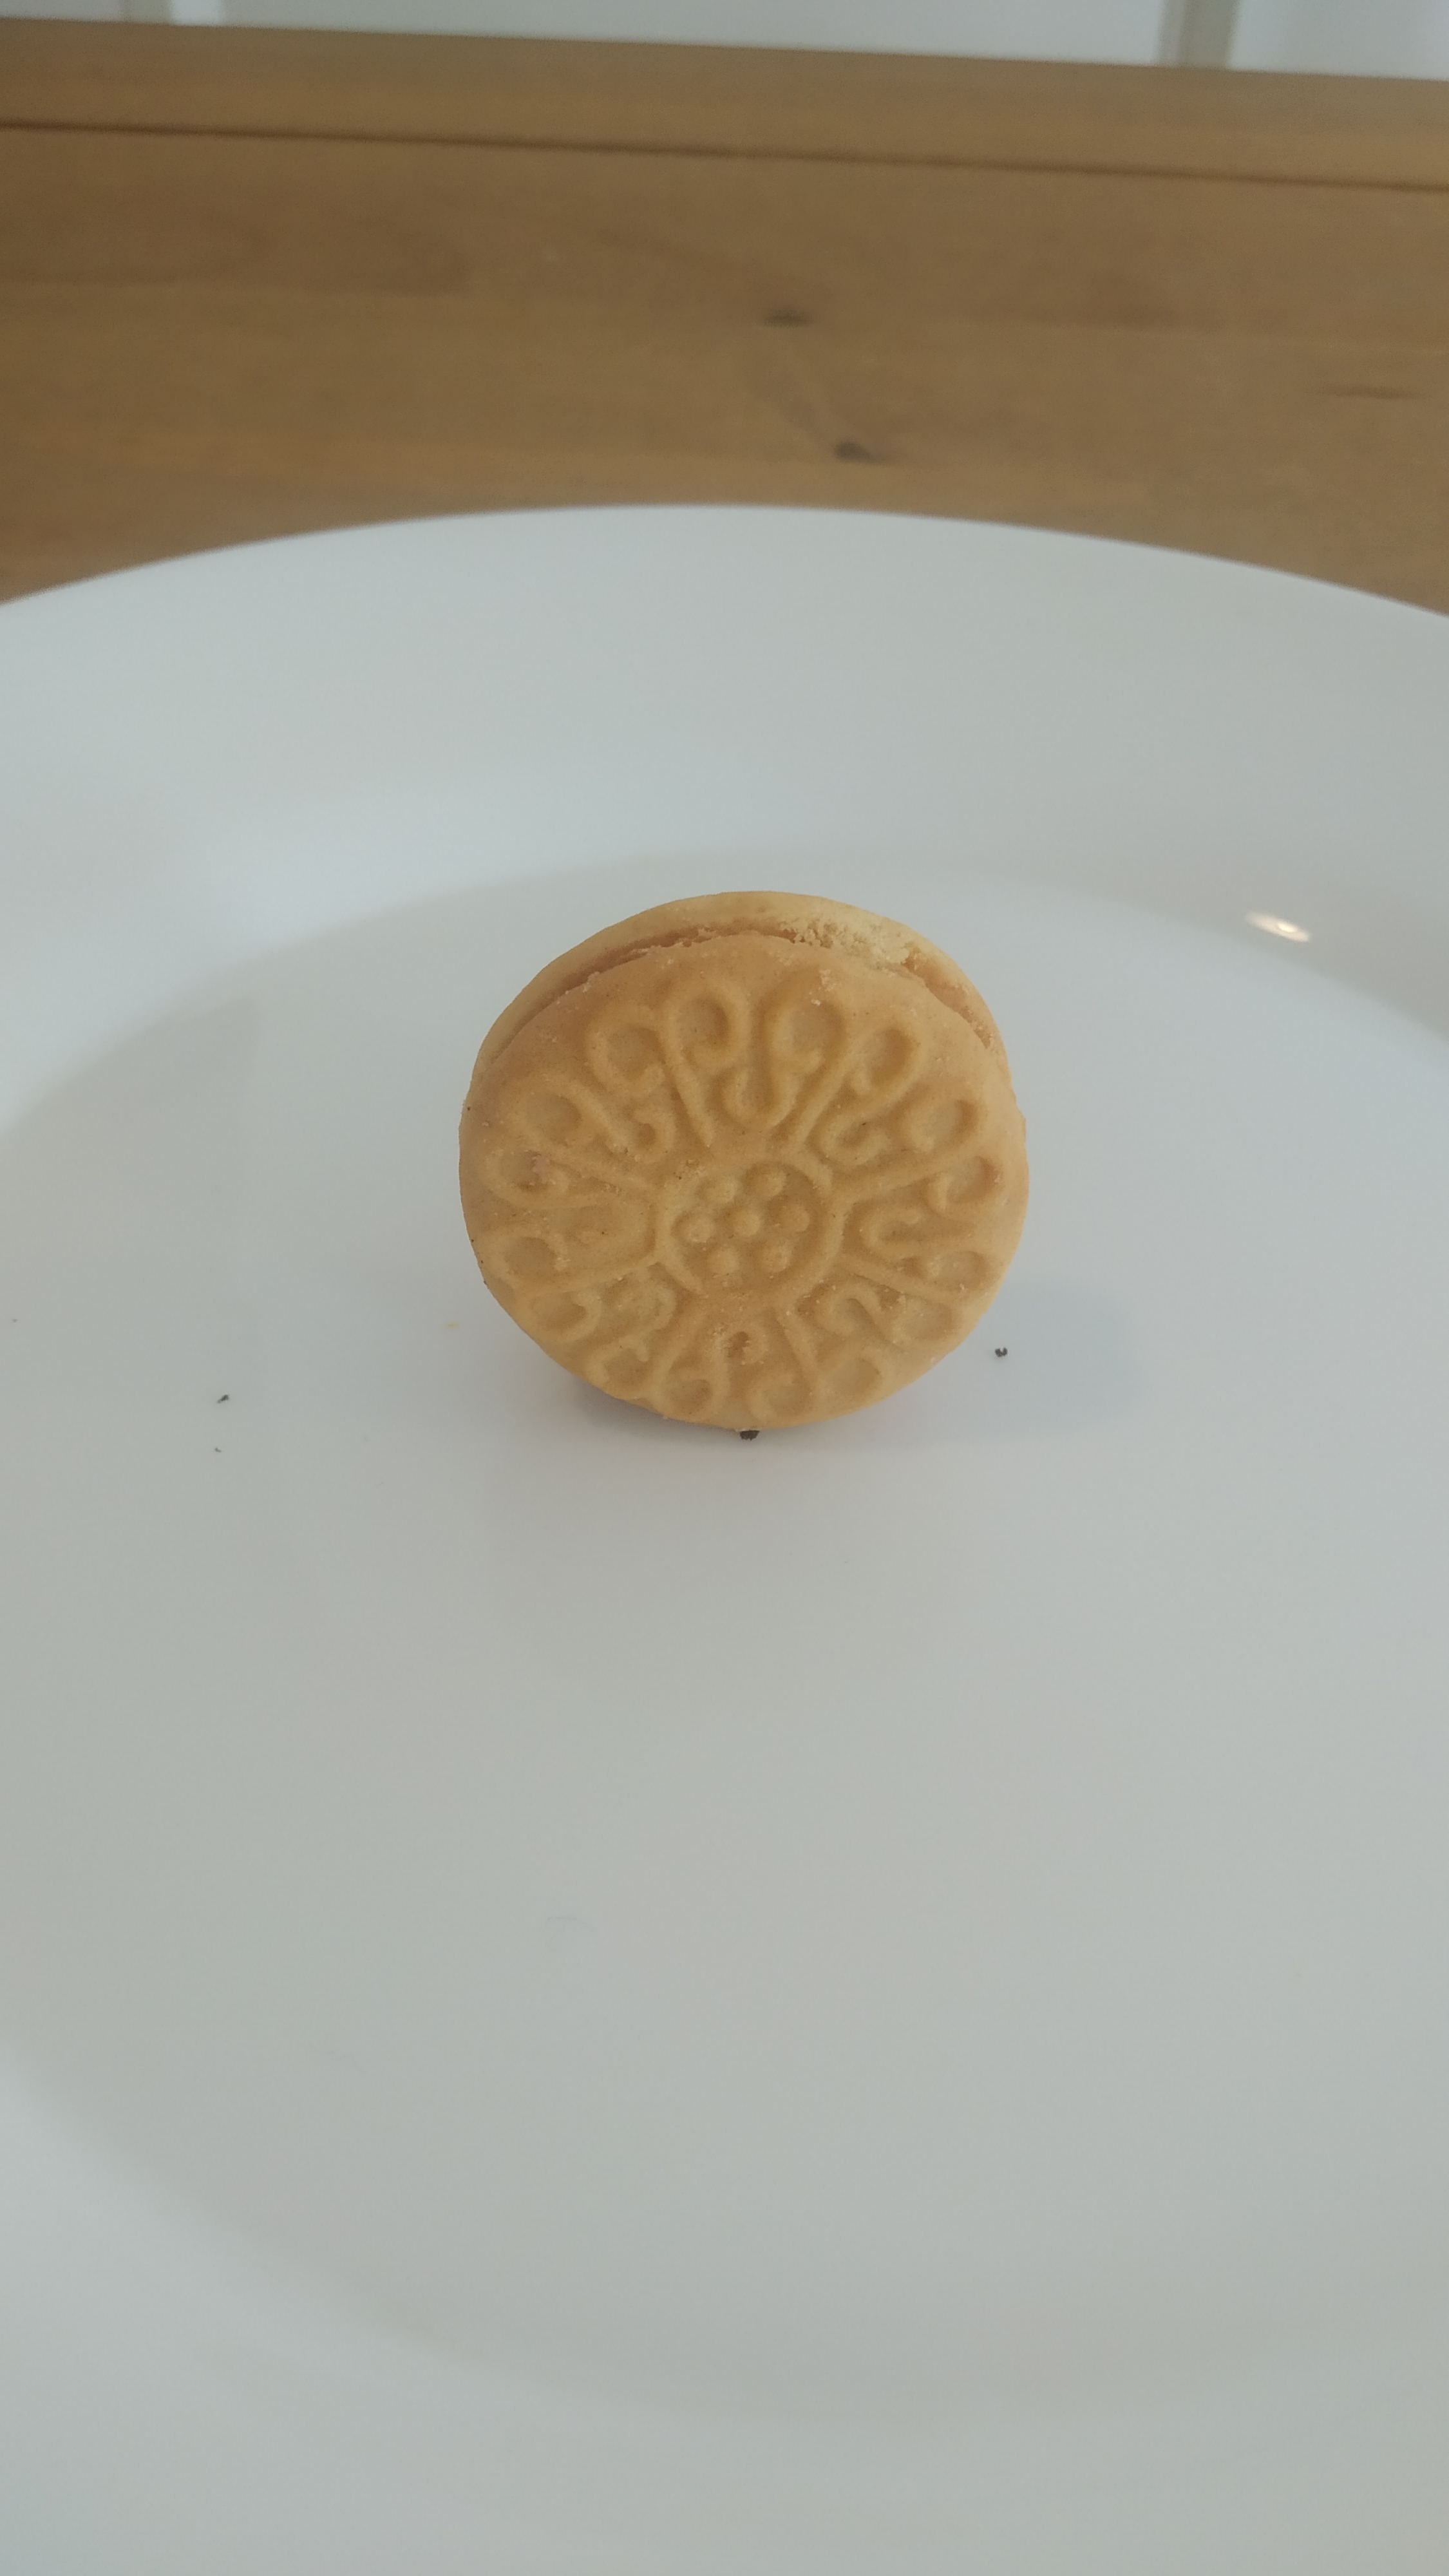lulu: (456, 886, 1028, 1433)
